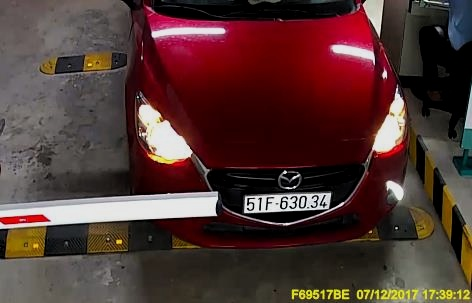plate: (242, 192, 335, 215)
